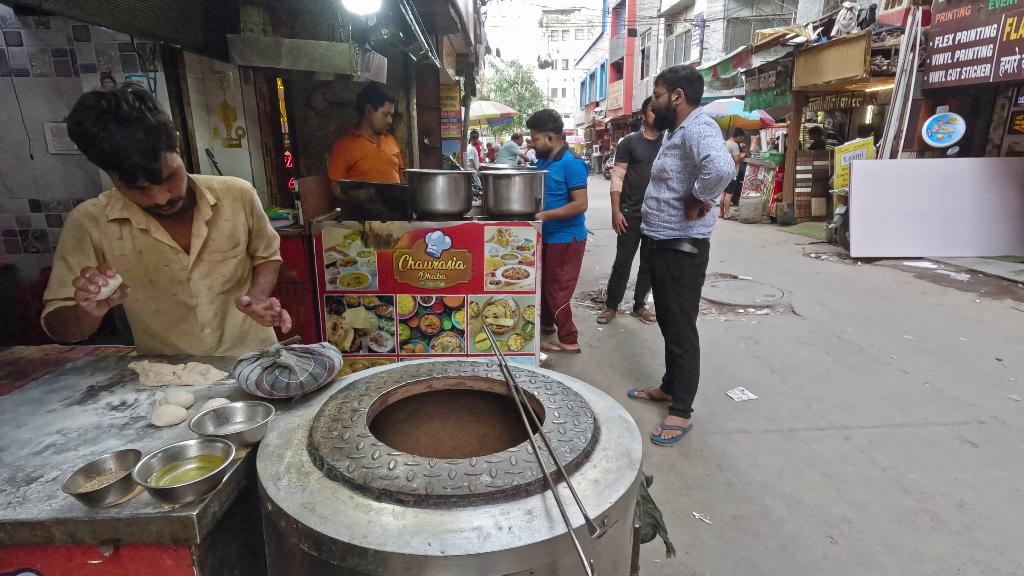garbage: (725, 383, 758, 405)
